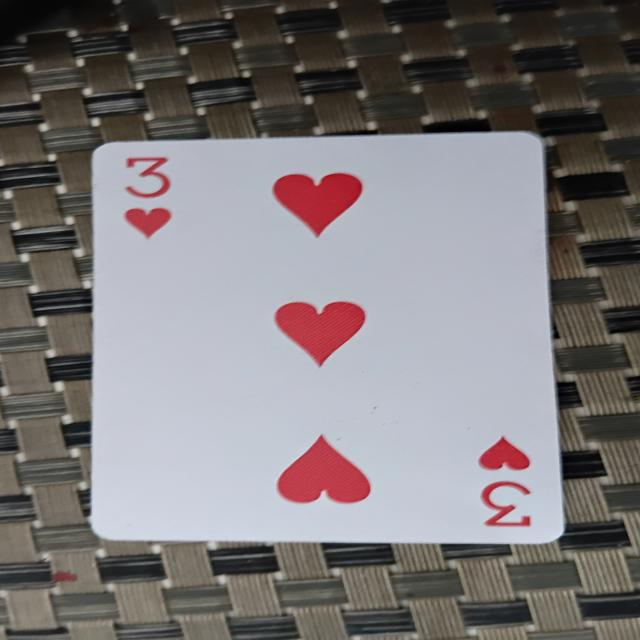3H: (81, 140, 552, 538)
